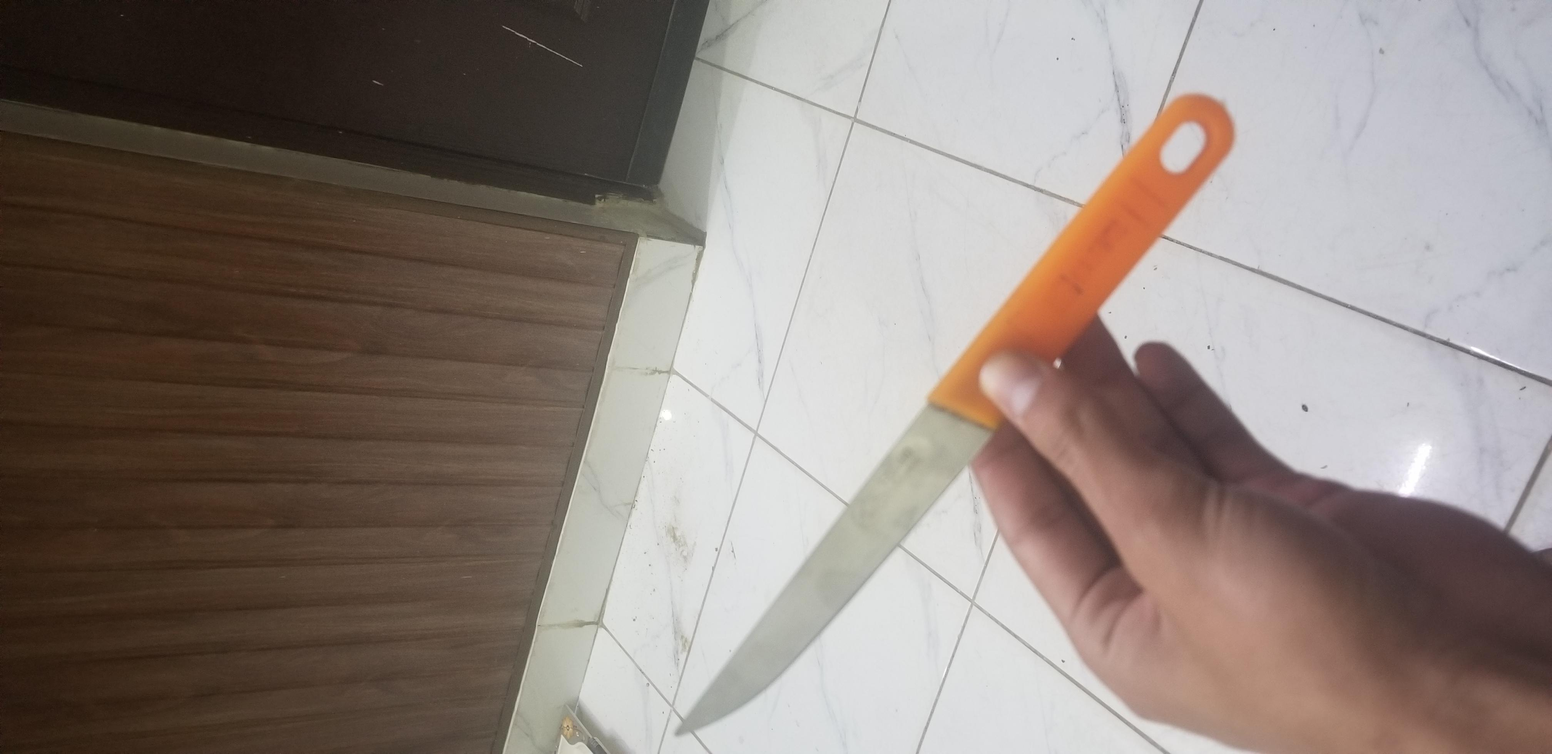knives: (27, 325, 1379, 617)
